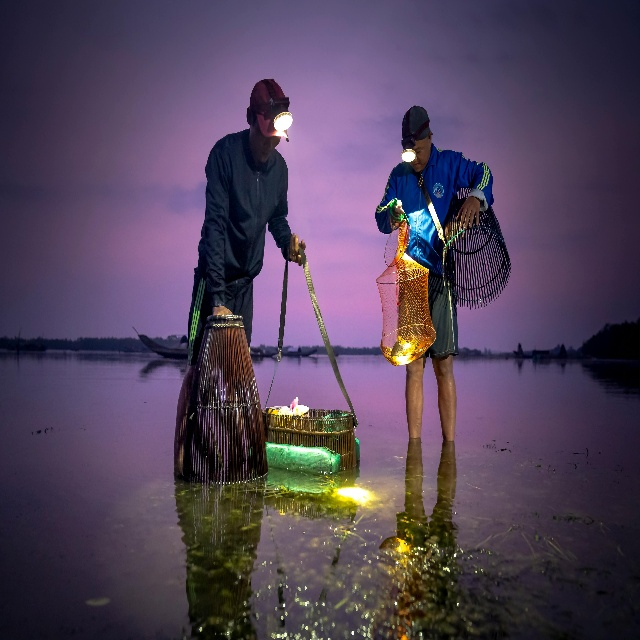Sin_guantes: (456, 196, 480, 229), (287, 232, 306, 266), (391, 198, 403, 226)
